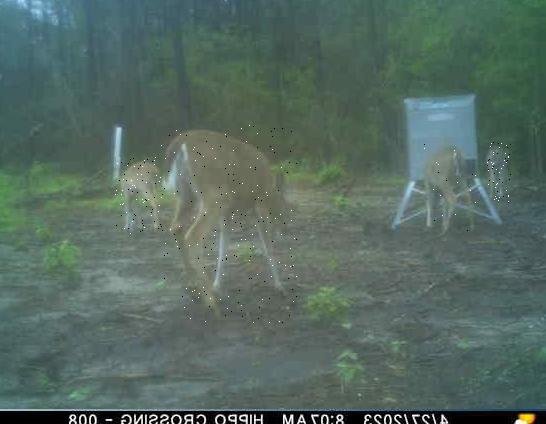Deer: (160, 126, 296, 325), (421, 143, 476, 234), (114, 158, 162, 238), (487, 141, 511, 203)
